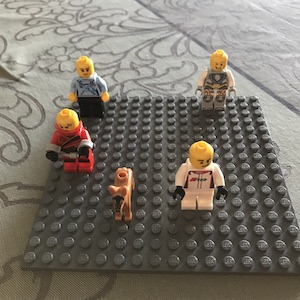Lego: (171, 140, 228, 215), (45, 109, 97, 176), (190, 47, 237, 113), (67, 56, 111, 118)
